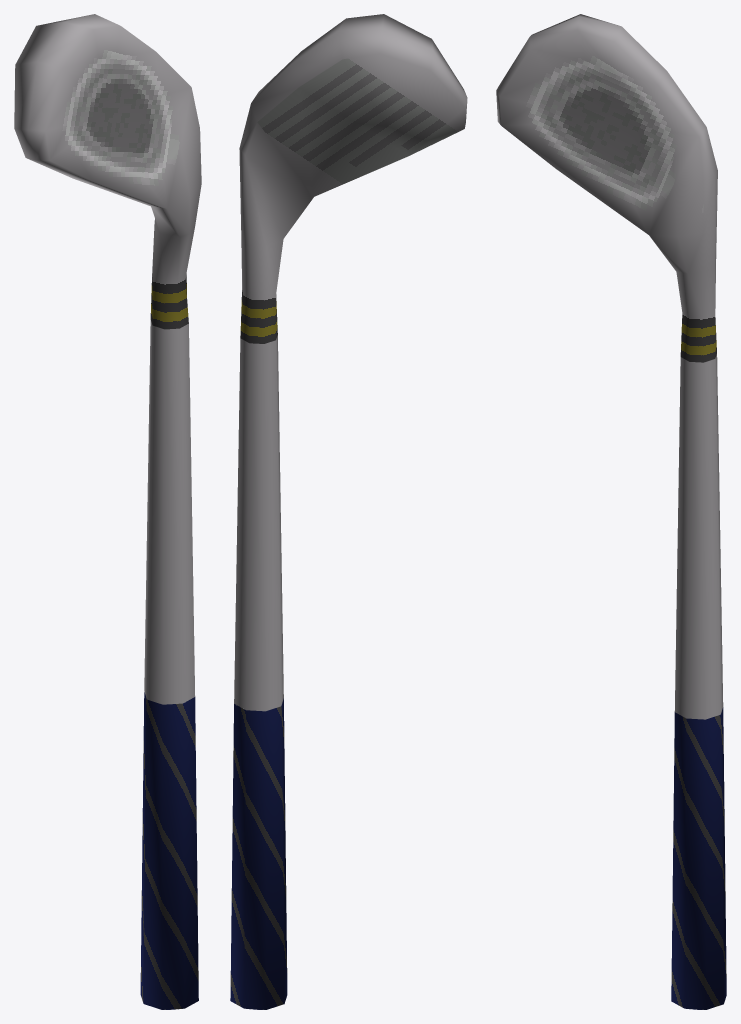
File: glf_club__glf_club_IR.glb
3 views of the same model, side by side, from view 1: azimuth 30°, elevation 25°; view 2: azimuth 150°, elevation 25°; view 3: azimuth 330°, elevation 25° (orthographic). The views are drawn at different scales.
Parts seen in each view (by area): view 1: polygon1, polygon0; view 2: polygon1, polygon0; view 3: polygon1, polygon0.
Boxes of the visible parts, left/top/right/bottom form: polygon1: left=14, top=14, right=201, bottom=704; polygon0: left=140, top=692, right=198, bottom=1009; polygon1: left=234, top=14, right=467, bottom=711; polygon0: left=230, top=698, right=287, bottom=1009; polygon1: left=496, top=14, right=723, bottom=719; polygon0: left=671, top=707, right=726, bottom=1009.
Bounding box in the file's own units: 1.74 × 8.13 × 0.8494.
2 materials, 2 textured.
